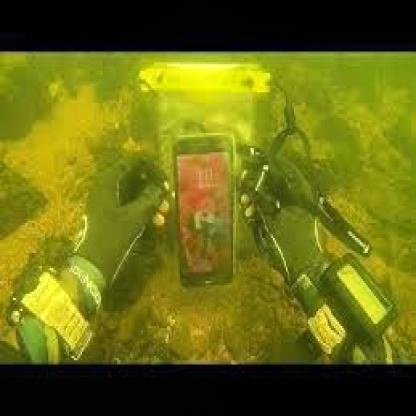cellphone: (171, 135, 240, 290)
